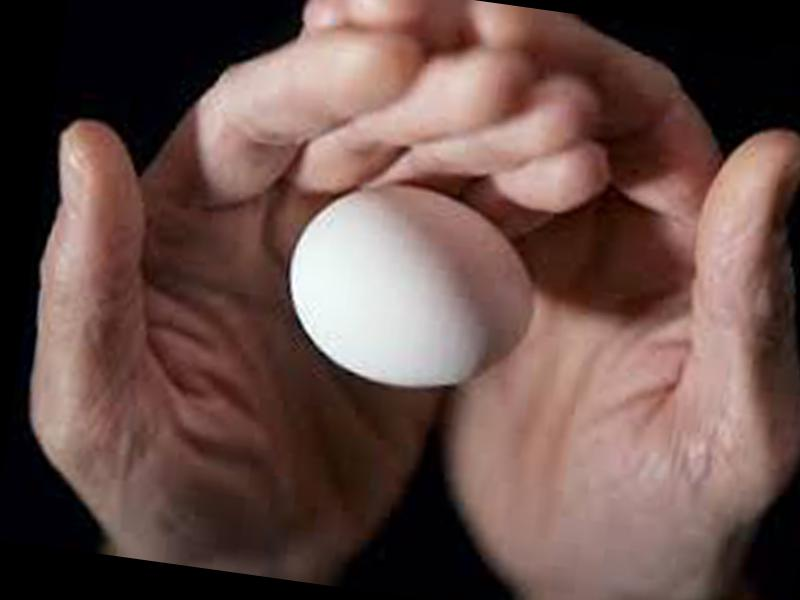Eggs: (275, 173, 545, 404)
